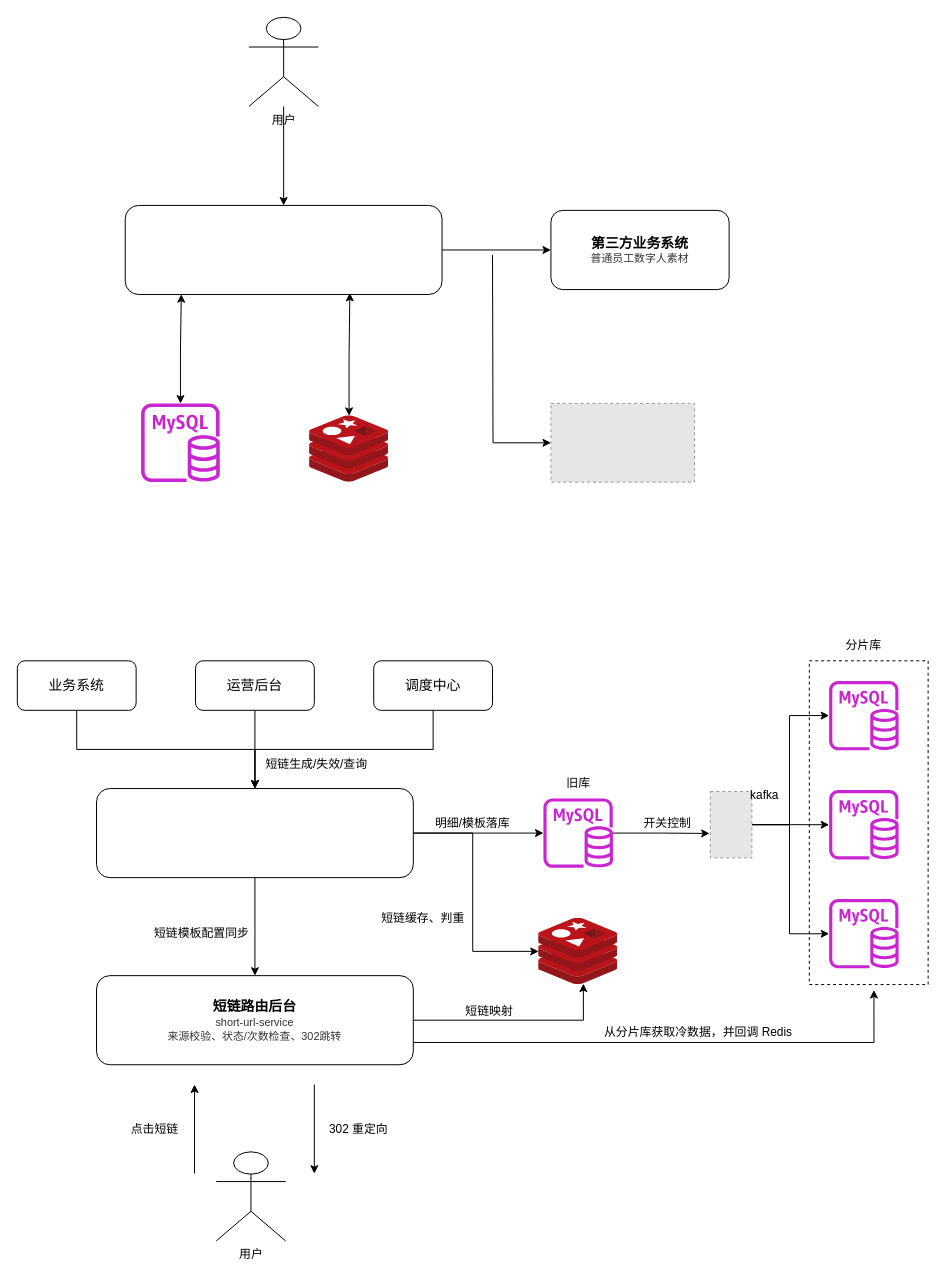
Some shapes in this 945 by 1279 pixel diagram are drawn without their labels. Grey dashed boxes stand in for pictures. The shapes that lost their labels are listed below. From the top down, each one's centre as x and y in pixels, then its label:
At point (283, 249): "数字人可视化配置后台 (system-center) 高管、普通员工数字人配置和获取".
At point (254, 833): "短链管理后台 short-link-admin (basic-manage 短链业务域） 生成短链、短链失效、模板统计".
